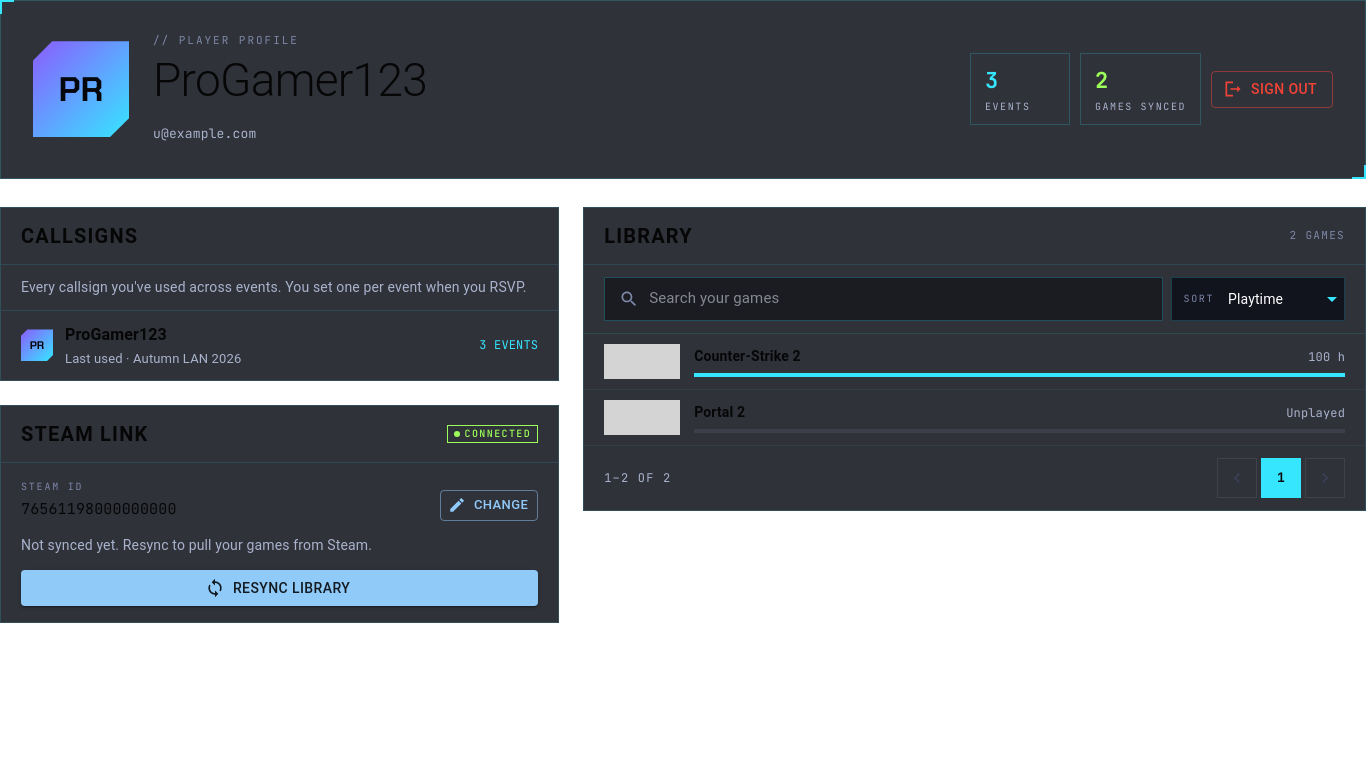
Test case: Account - Resync library button › shows a busy state while syncing
The image size is (1366, 768).
Click the button "Resync library" at (280, 588), box [21,570,538,606]
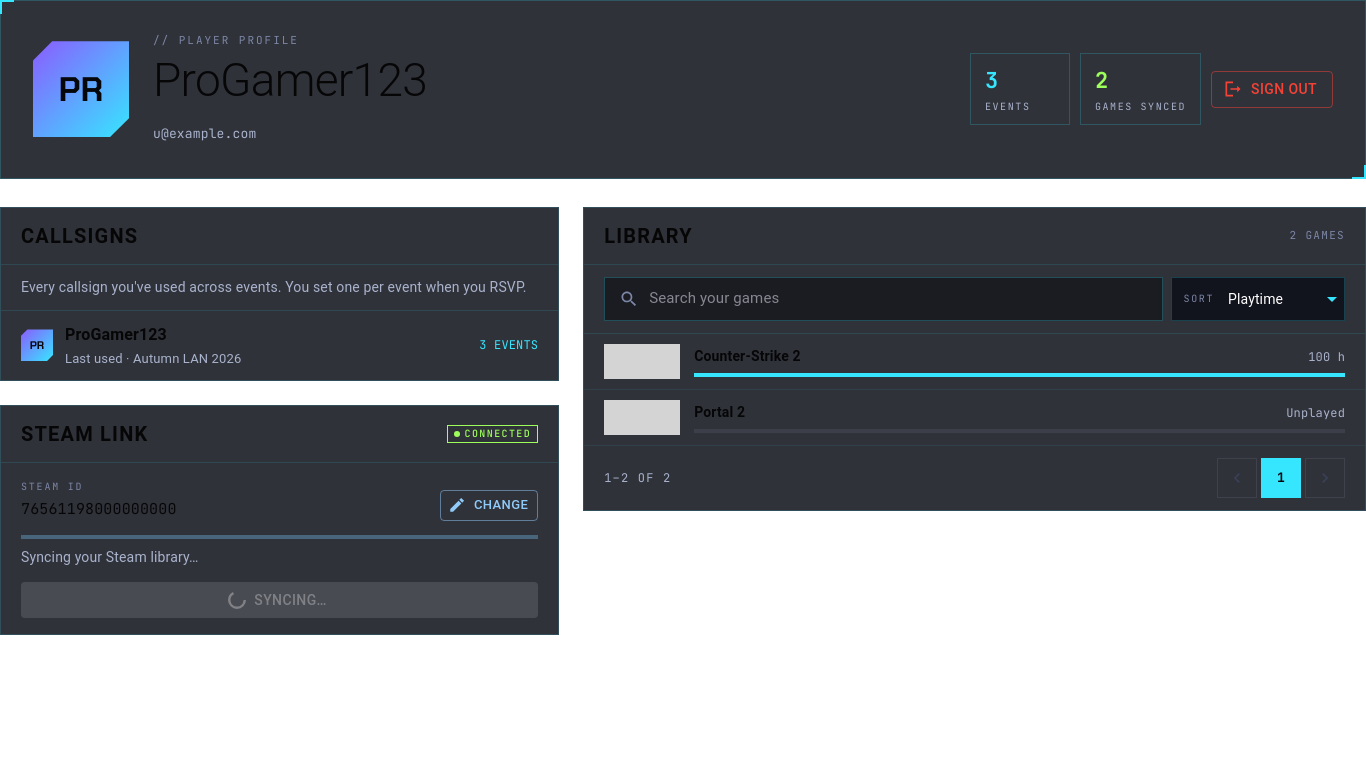
expect the button named "resync library" is disabled: met, box [21,582,538,618]
expect the text "Syncing your Steam library…" is shown: met, box [21,549,198,565]
